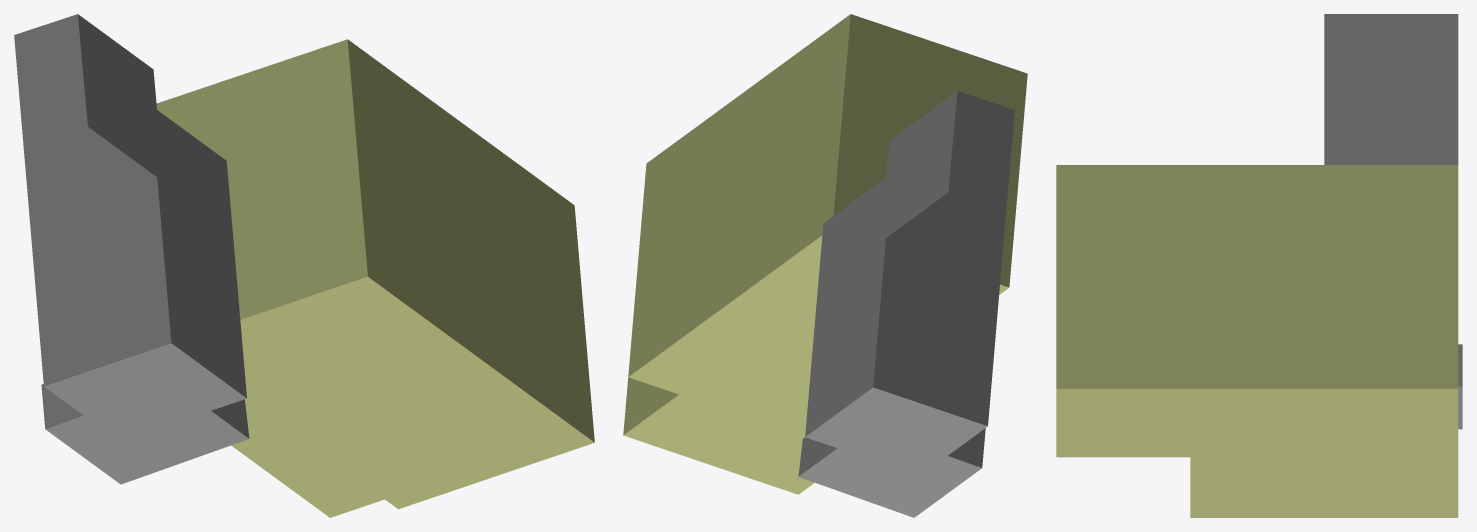
3 views of the same model, side by side, from view 1: azimuth 30°, elevation 25°; view 2: azimuth 150°, elevation 25°; view 3: azimuth 270°, elevation 25° (orthographic). The views are drawn at different scales.
Parts seen in each view (by area): view 1: 0_2_3_3_3_1_0_0_2_1_1; view 2: 0_2_3_3_3_1_0_0_2_1_1; view 3: 0_2_3_3_3_1_0_0_2_1_1.
Boxes of the visible parts, x1=… form: 0_2_3_3_3_1_0_0_2_1_1: x1=14, y1=14, x2=594, y2=517; 0_2_3_3_3_1_0_0_2_1_1: x1=623, y1=14, x2=1027, y2=517; 0_2_3_3_3_1_0_0_2_1_1: x1=1056, y1=14, x2=1462, y2=517.
Size of the model in its own units: 8.23 by 9.14 by 9.1.
